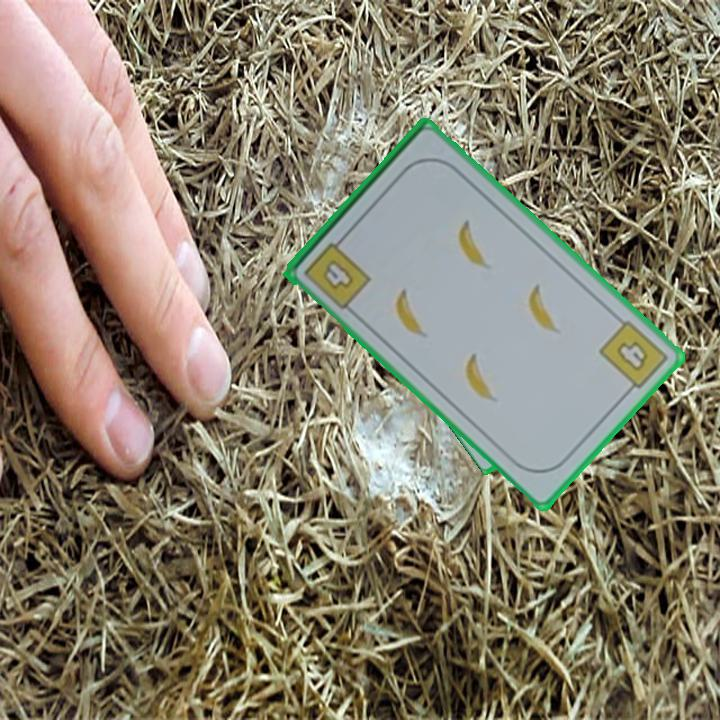4b: (595, 316, 671, 399), (300, 232, 374, 313)
